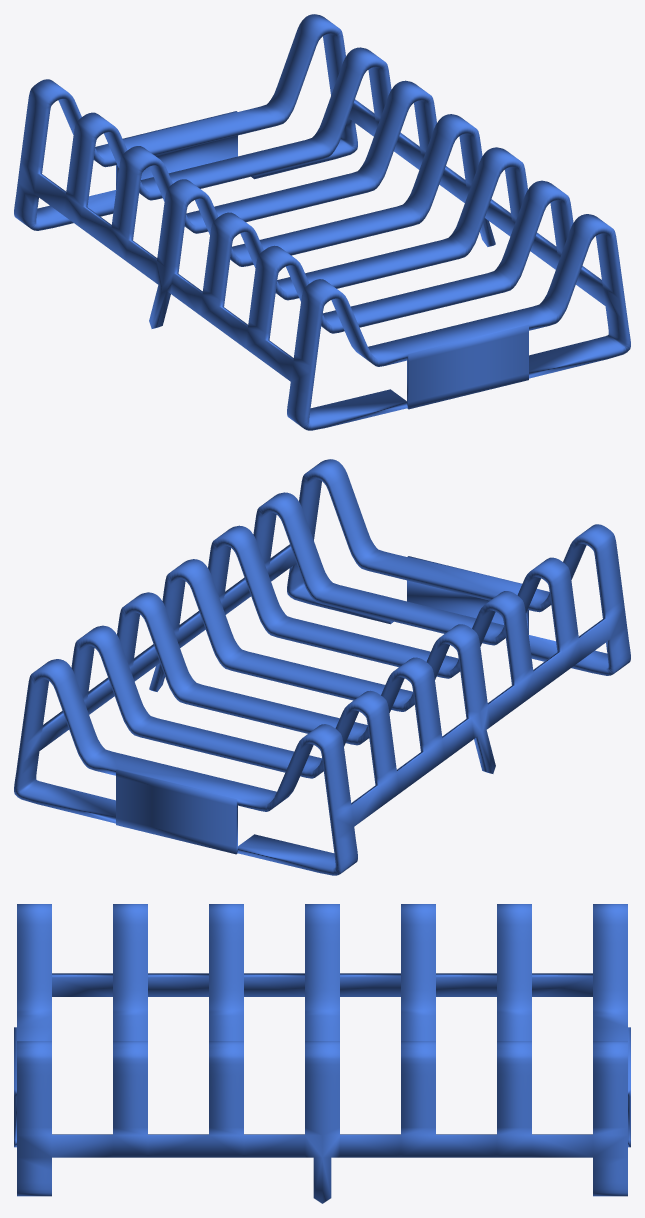
The model's file is tabaklik.fbx.
The picture shows the model from 3 angles, top to bottom: view 1: azimuth 30°, elevation 25°; view 2: azimuth 150°, elevation 25°; view 3: azimuth 270°, elevation 25°; orthographic projection. The views are drawn at different scales.
Visible parts, largest first — view 1: Cube; view 2: Cube; view 3: Cube.
Boxes of the visible parts, box(x1,y1,x2,y2) form: Cube: box(14, 14, 630, 430); Cube: box(14, 459, 630, 875); Cube: box(14, 904, 630, 1203).
Size of the model in its own units: 191 by 72.12 by 284.
